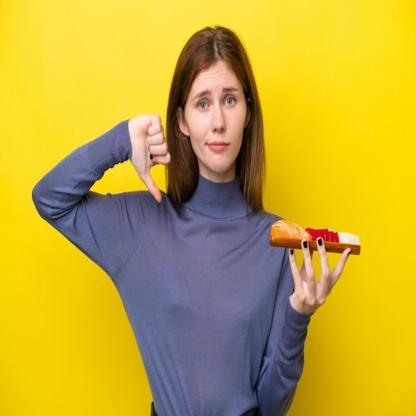thumb_down: (128, 109, 172, 206)
